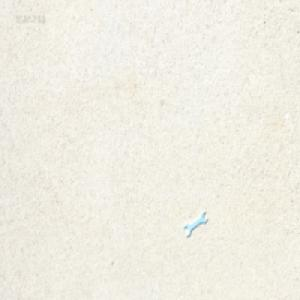Wrench: (183, 206, 207, 234)
